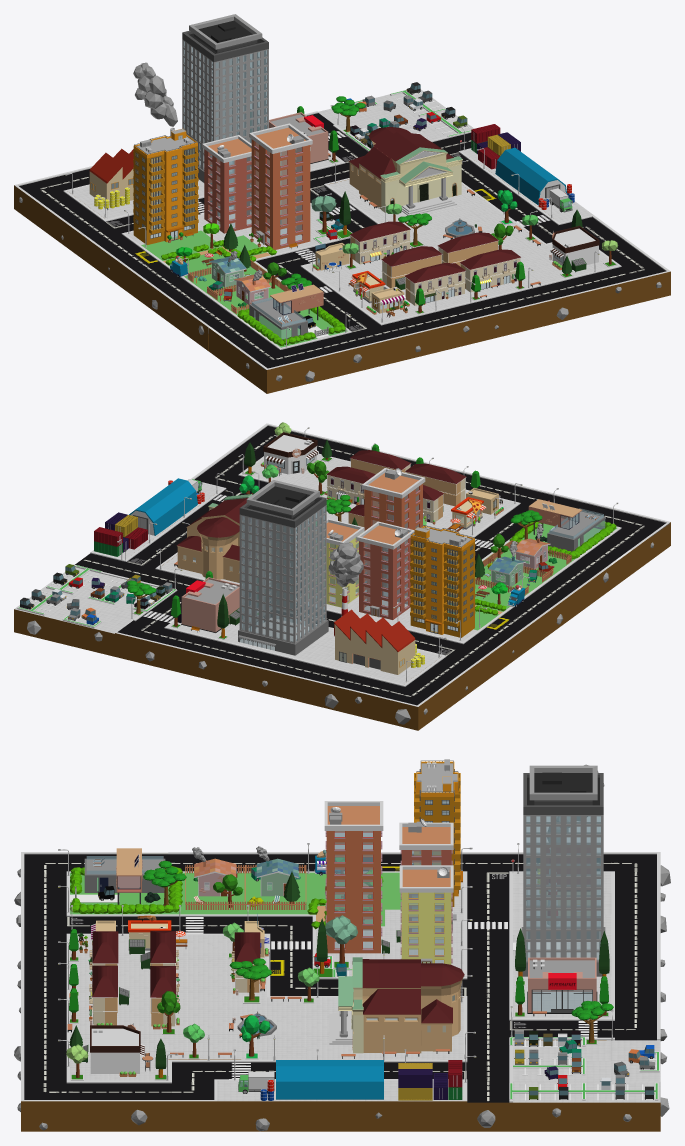
The picture shows the model from 3 angles, top to bottom: view 1: azimuth 30°, elevation 25°; view 2: azimuth 150°, elevation 25°; view 3: azimuth 270°, elevation 25°; orthographic projection. The views are drawn at different scales.
Parts seen in each view (by area): view 1: Struttura; view 2: Struttura; view 3: Struttura.
Part boxes in pixels (x1,y1,x2,y2): Struttura: [14, 14, 670, 393]; Struttura: [14, 422, 670, 730]; Struttura: [14, 759, 670, 1131].
Size of the model in its own units: 122 by 46.88 by 134.
Materials: 8 (6 with a texture image).
